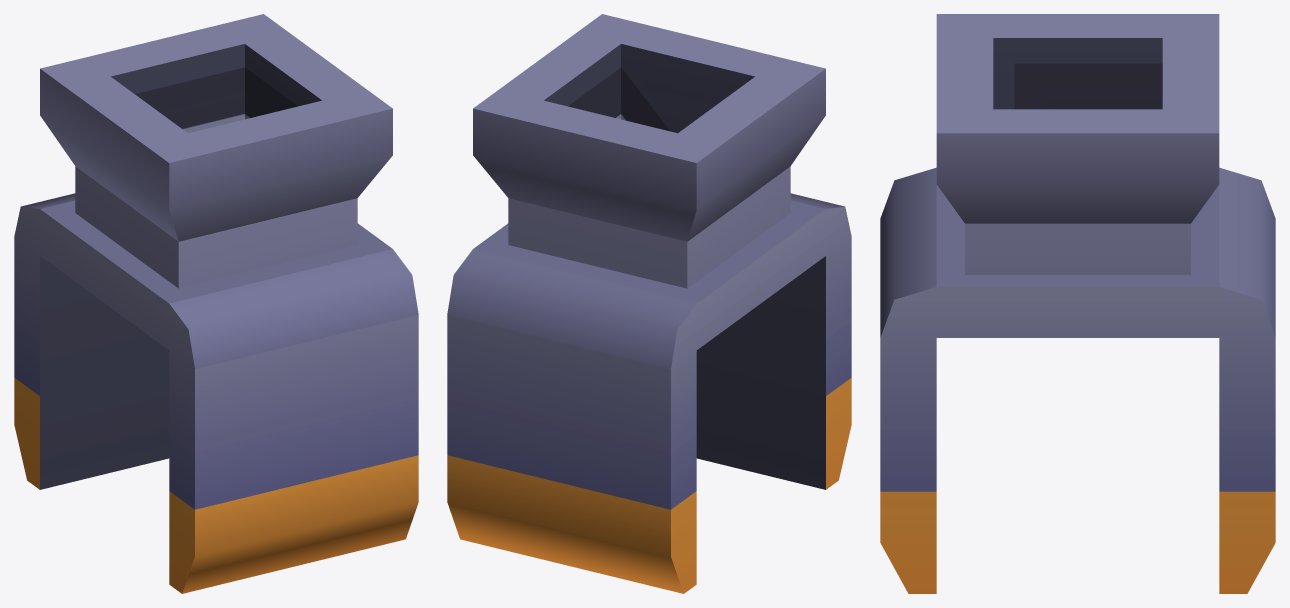
File: kenney-conveyor-cover-stripe-hopper.glb
3 views of the same model, side by side, from view 1: azimuth 30°, elevation 25°; view 2: azimuth 150°, elevation 25°; view 3: azimuth 270°, elevation 25° (orthographic). The views are drawn at different scales.
Visible parts, largest first — view 1: cover-stripe-hopper; view 2: cover-stripe-hopper; view 3: cover-stripe-hopper.
Part boxes in pixels (x1,y1,x2,y2): cover-stripe-hopper: (14, 14, 418, 593); cover-stripe-hopper: (447, 14, 851, 593); cover-stripe-hopper: (880, 14, 1275, 593).
Bounding box in the file's own units: 1 × 1.8 × 1.4.
1 material, 1 textured.
